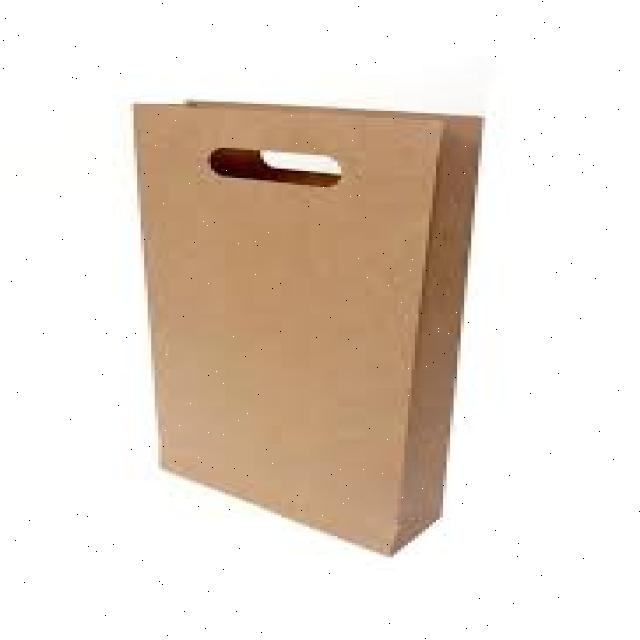paper bag: (131, 95, 491, 559)
